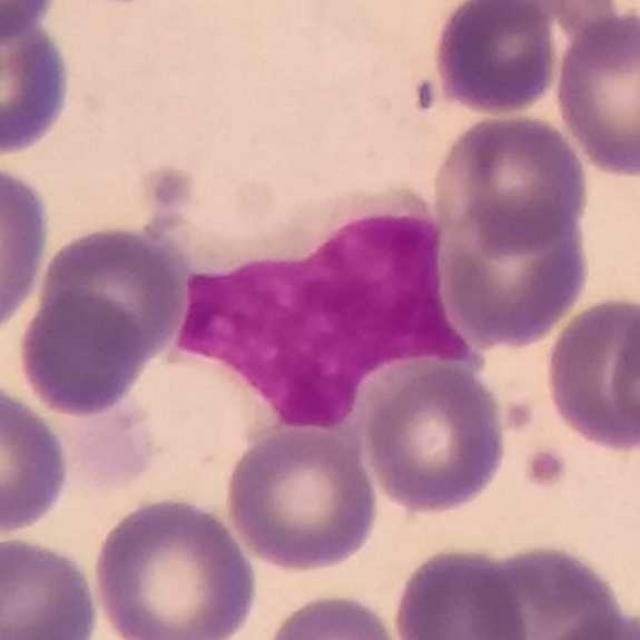Monocyte: (171, 193, 478, 434)
Platelets: (517, 440, 579, 496)
RBC: (90, 491, 261, 640), (220, 420, 383, 576), (434, 192, 594, 348), (359, 357, 511, 519), (430, 109, 593, 254), (32, 219, 192, 365), (13, 286, 150, 419), (466, 538, 629, 640), (541, 293, 640, 455), (550, 7, 640, 181), (429, 0, 562, 117), (388, 541, 532, 640), (0, 374, 75, 540), (0, 7, 76, 160), (0, 531, 105, 640), (0, 155, 52, 346), (258, 587, 411, 640), (605, 294, 640, 453), (448, 0, 624, 30), (534, 606, 639, 640), (0, 0, 62, 42)
